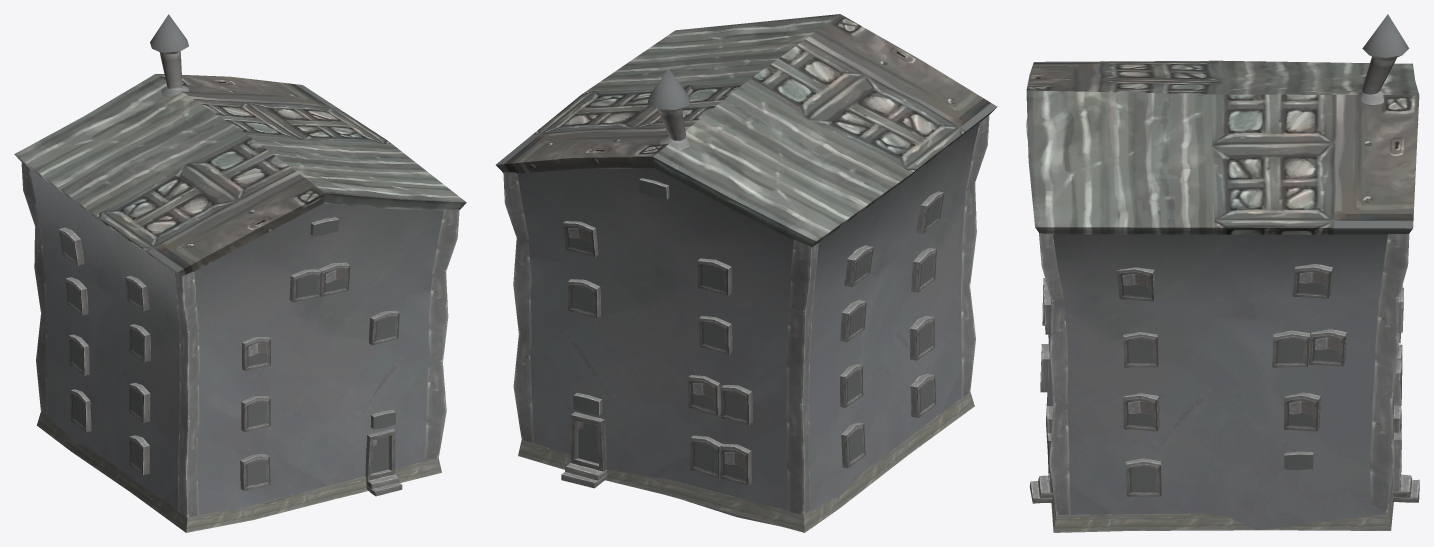
Rendered from SmallHouse2.fbx.
3 views of the same model, side by side, from view 1: azimuth 30°, elevation 25°; view 2: azimuth 150°, elevation 25°; view 3: azimuth 270°, elevation 25° (orthographic). The views are drawn at different scales.
Visible parts, largest first — view 1: SmallHouse2_OUT; view 2: SmallHouse2_OUT; view 3: SmallHouse2_OUT.
Boxes of the visible parts, x1,y1,x2,y2 form: SmallHouse2_OUT: (14,14,466,532); SmallHouse2_OUT: (496,14,997,532); SmallHouse2_OUT: (1026,14,1419,532).
Size of the model in its own units: 1160 by 1449 by 1154.
